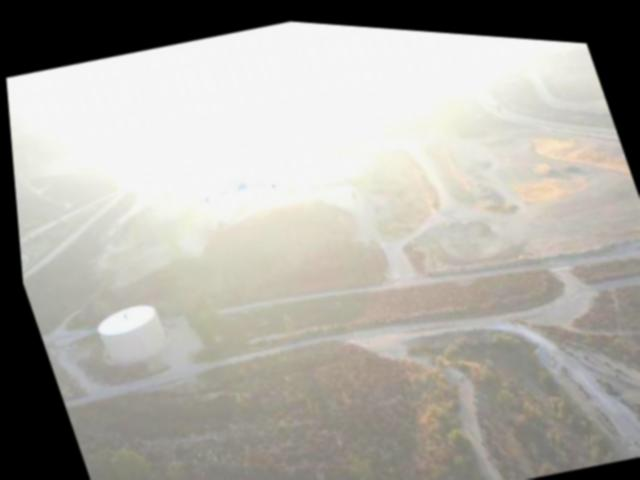iha: (195, 158, 276, 206)
